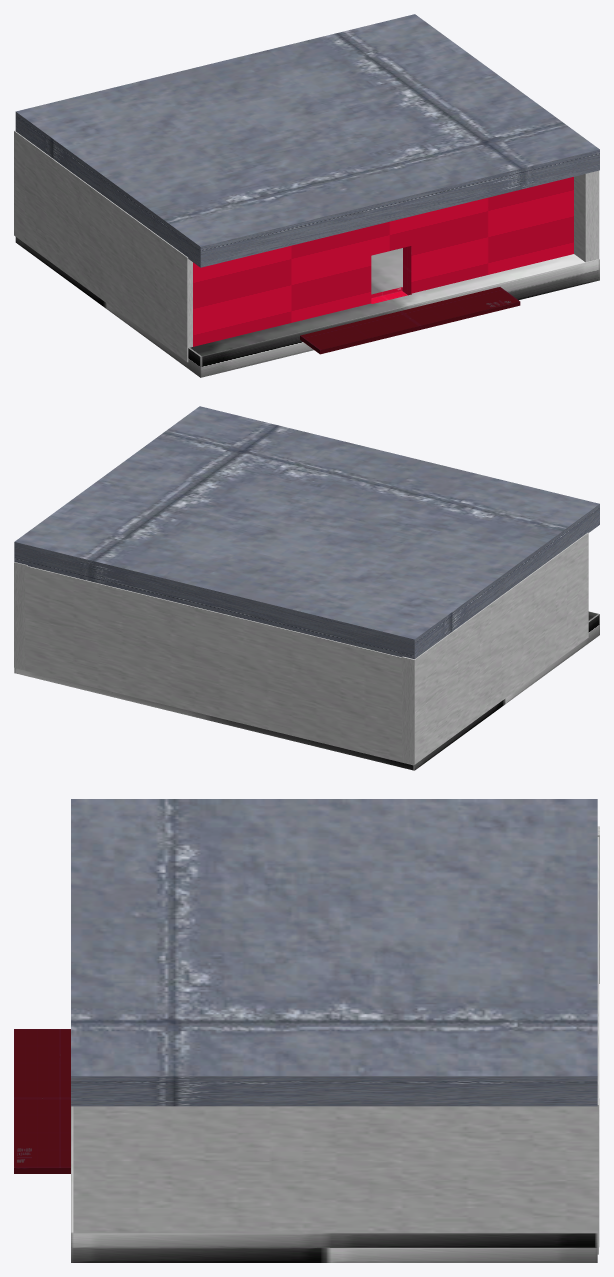
Rendered from store.gltf.
3 views of the same model, one above another, from view 1: azimuth 30°, elevation 25°; view 2: azimuth 150°, elevation 25°; view 3: azimuth 270°, elevation 25° (orthographic). The views are drawn at different scales.
Visible parts, largest first — view 1: CSGCombiner3D2; view 2: CSGCombiner3D2; view 3: CSGCombiner3D2.
Boxes of the visible parts, <box> form: CSGCombiner3D2: <box>14,14,599,377</box>; CSGCombiner3D2: <box>14,406,599,770</box>; CSGCombiner3D2: <box>14,799,599,1262</box>.
Bounding box in the file's own units: 20.04 × 6.27 × 17.85.
11 materials, 11 textured.
